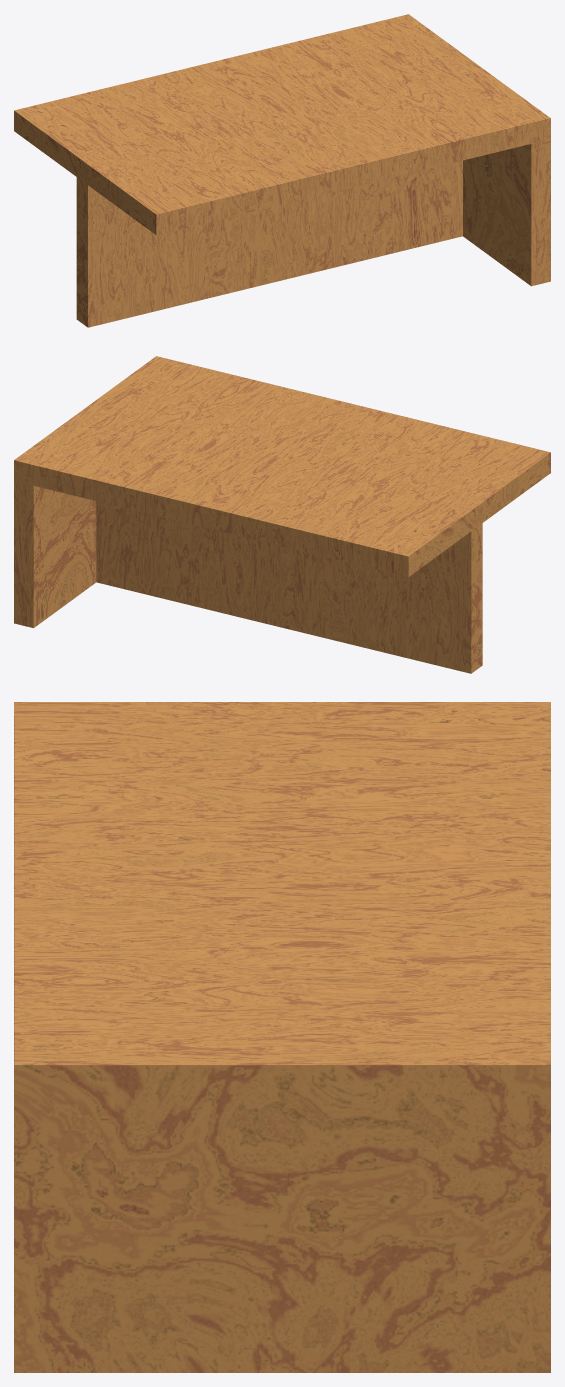
Rendered from ModeloMesaCadeirante.glb.
3 views of the same model, one above another, from view 1: azimuth 30°, elevation 25°; view 2: azimuth 150°, elevation 25°; view 3: azimuth 270°, elevation 25° (orthographic). The views are drawn at different scales.
Parts seen in each view (by area): view 1: mesh9; view 2: mesh9; view 3: mesh9.
Boxes of the visible parts, x1,y1,x2,y2 form: mesh9: (14,14,550,327); mesh9: (14,356,550,673); mesh9: (14,702,550,1372).
Bounding box in the file's own units: 2 × 0.79 × 1.25.
Materials: 1 (1 with a texture image).
